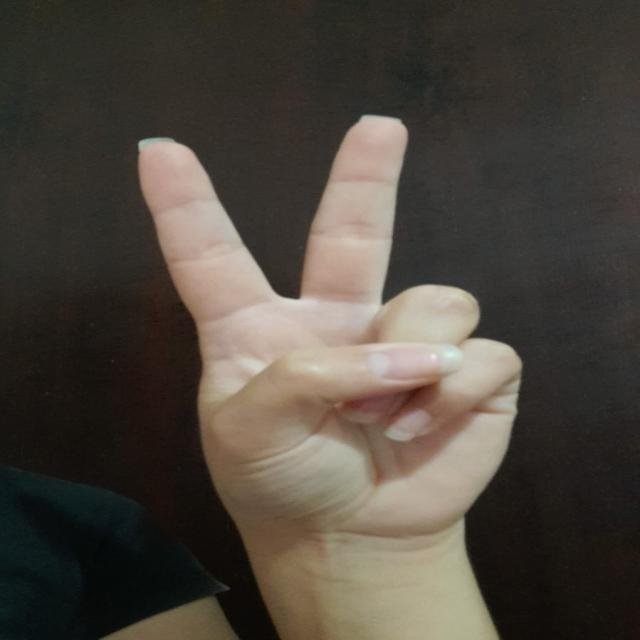V: (103, 104, 527, 536)
